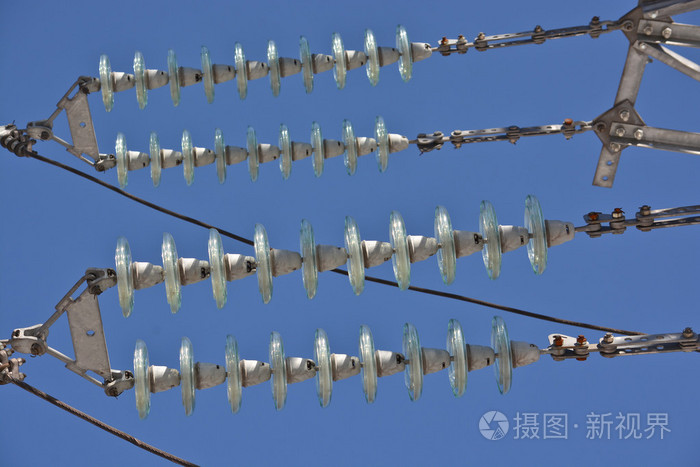insulator: (116, 193, 554, 323), (130, 318, 516, 422), (98, 25, 418, 114), (111, 115, 391, 193)
